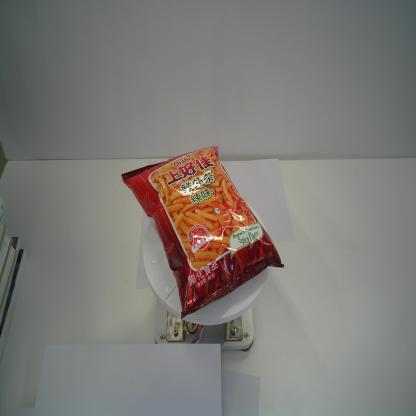Puffed Food: (120, 145, 286, 320)
